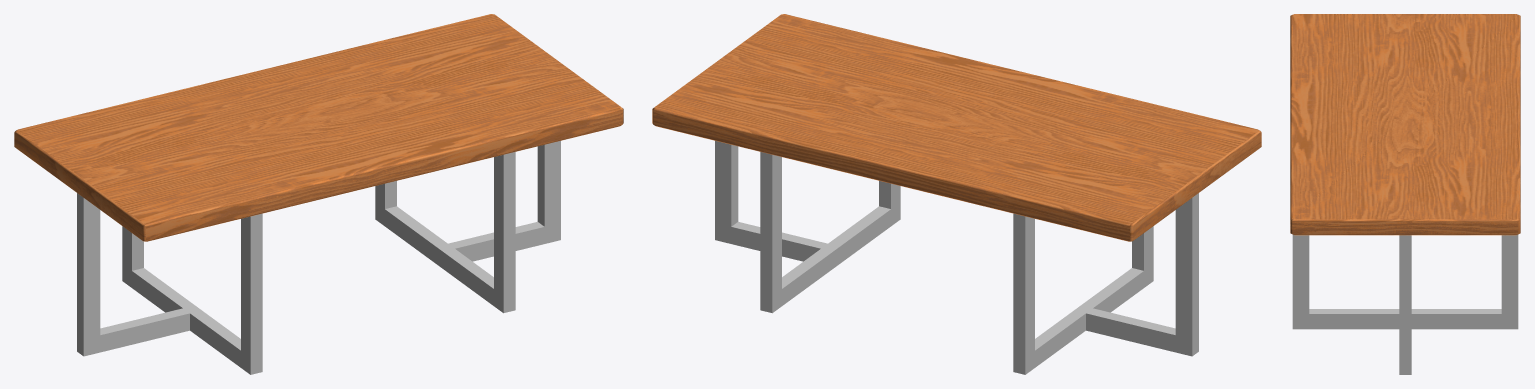
The model's file is kitchen_table_002.fbx.
3 views of the same model, side by side, from view 1: azimuth 30°, elevation 25°; view 2: azimuth 150°, elevation 25°; view 3: azimuth 270°, elevation 25° (orthographic). The views are drawn at different scales.
Visible parts, largest first — view 1: kitchen_table_002; view 2: kitchen_table_002; view 3: kitchen_table_002.
Boxes of the visible parts, x1=… form: kitchen_table_002: x1=14, y1=14, x2=623, y2=374; kitchen_table_002: x1=652, y1=14, x2=1261, y2=374; kitchen_table_002: x1=1290, y1=14, x2=1520, y2=374.
Bounding box in the file's own units: 268 × 126 × 94.38.
